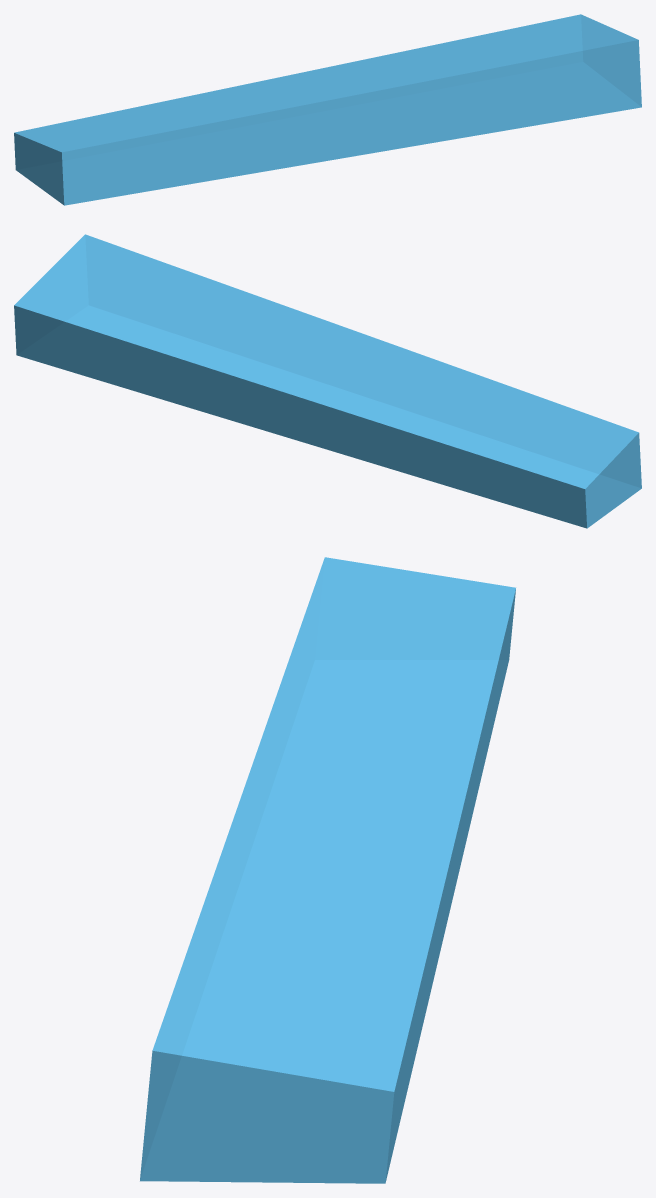
File: Event_421115418_HErechit_124.fbx
3 views of the same model, one above another, from view 1: azimuth 30°, elevation 25°; view 2: azimuth 150°, elevation 25°; view 3: azimuth 270°, elevation 25° (orthographic). The views are drawn at different scales.
Parts seen in each view (by area): view 1: Model; view 2: Model; view 3: Model.
Boxes of the visible parts, <box> form: Model: <box>14,14,641,205</box>; Model: <box>14,234,641,528</box>; Model: <box>140,557,515,1183</box>.
Bounding box in the file's own units: 2.98 × 0.3464 × 0.9055.
